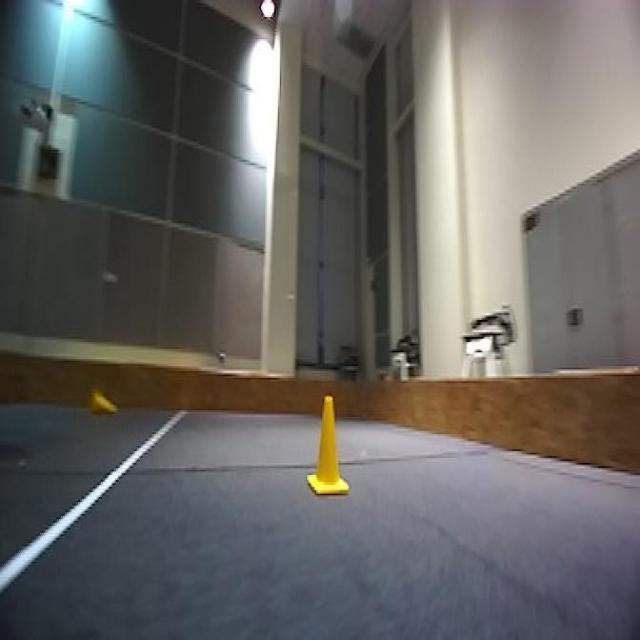frc_cone: (306, 397, 348, 495), (85, 386, 120, 419)
